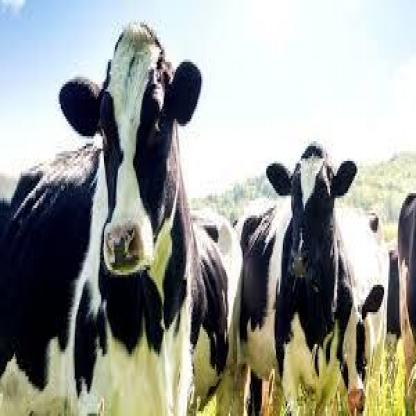cow: (0, 20, 202, 416), (234, 143, 356, 416)
